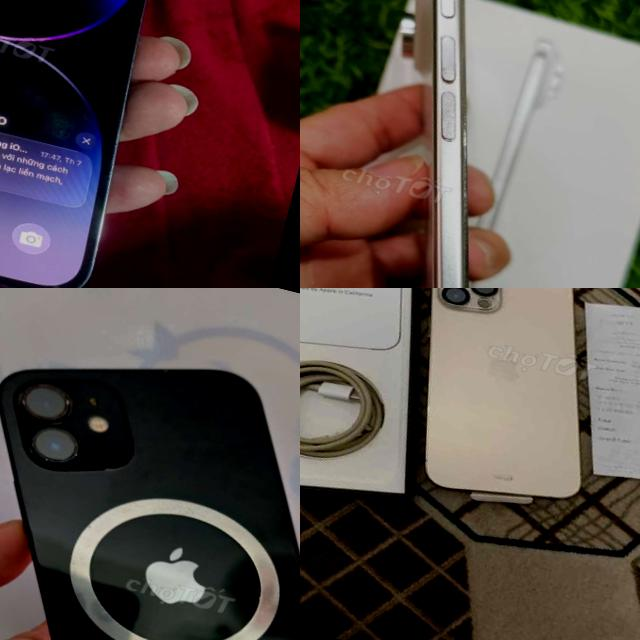gen_12_13: (0, 314, 300, 640), (369, 288, 640, 526)
gen_14: (0, 0, 199, 288)
gen_17: (300, 0, 635, 288)
